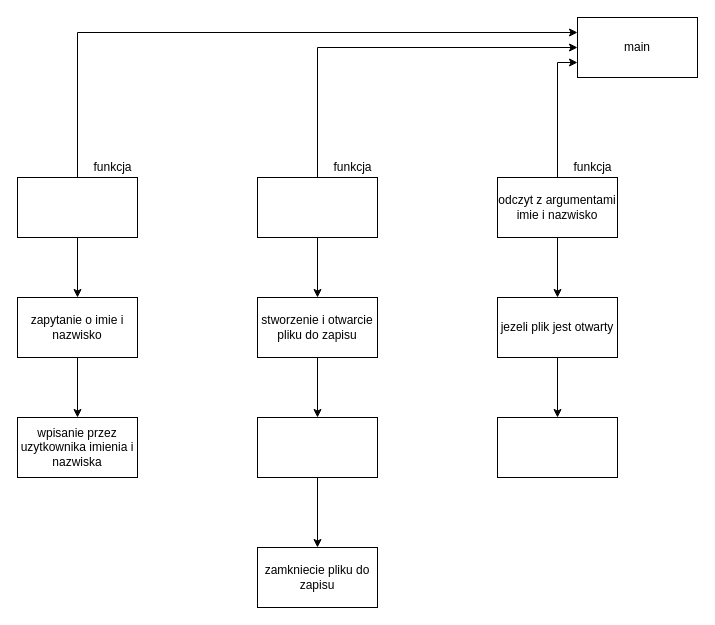
Image size: 715x625. Some labels were removed from this diagram. The centre of each missing label's shape, as x and y in pixels:
"czytanie z argumentami imie i nazwisko" belongs at (x=77, y=207).
"wczytanie zapisanych linii w pliku" belongs at (x=557, y=447).
"zapis do niego wprowadzonych danych" belongs at (x=317, y=447).
"zapis z argumentami imie i nazwisko" belongs at (x=317, y=207).
